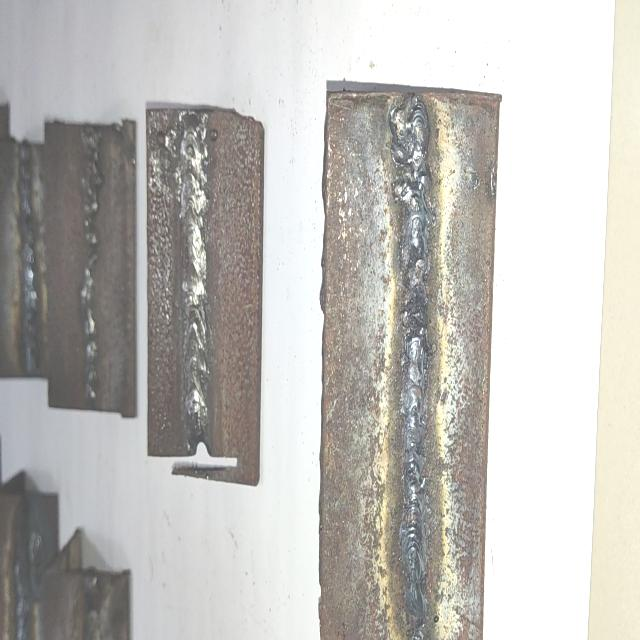Bad Weld: (400, 102, 429, 624), (180, 120, 206, 443), (82, 133, 101, 396), (14, 560, 27, 640)
Defect: (392, 97, 438, 218), (168, 110, 217, 200), (394, 284, 438, 350), (75, 128, 106, 220), (13, 512, 50, 576), (84, 576, 101, 640)
Good Weld: (20, 147, 37, 370)
